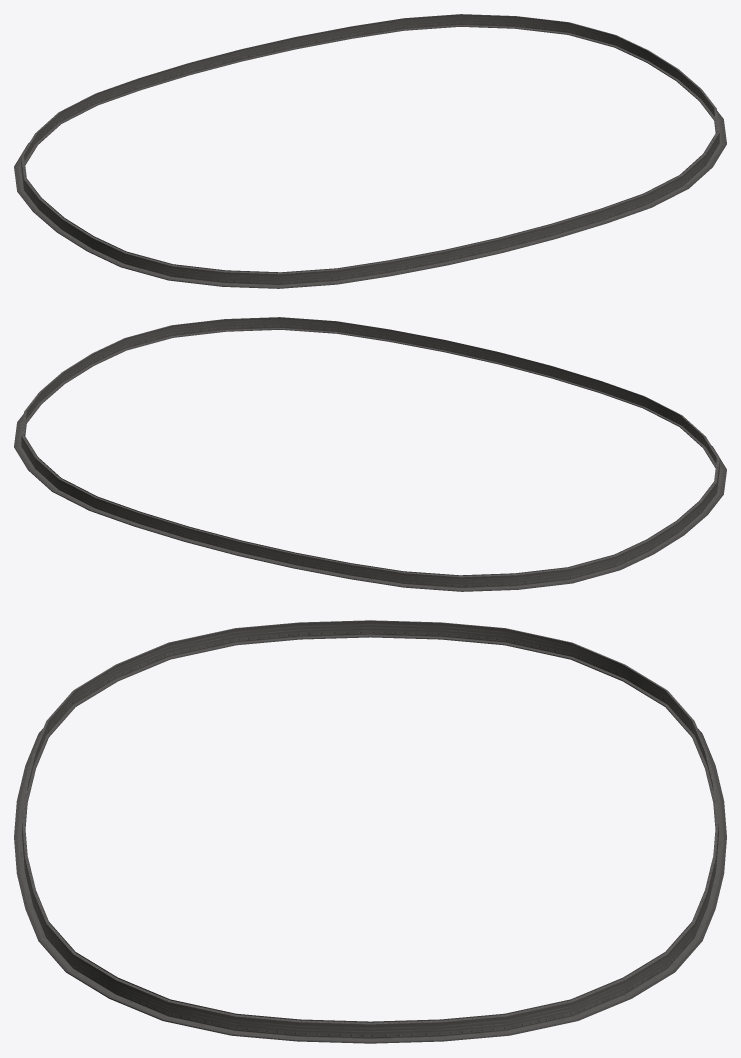
The model's file is ESTADIO_brochalCubierta.fbx.
3 renders of one model, top to bottom at view 1: azimuth 30°, elevation 25°; view 2: azimuth 150°, elevation 25°; view 3: azimuth 270°, elevation 25°, orthographic. The views are drawn at different scales.
Parts seen in each view (by area): view 1: ESTADIO_brochalCubierta; view 2: ESTADIO_brochalCubierta; view 3: ESTADIO_brochalCubierta.
Part boxes in pixels (x1,y1,x2,y2): ESTADIO_brochalCubierta: (14, 14, 726, 288); ESTADIO_brochalCubierta: (14, 317, 726, 591); ESTADIO_brochalCubierta: (14, 620, 726, 1043).
Size of the model in its own units: 12043 by 230 by 8820.
